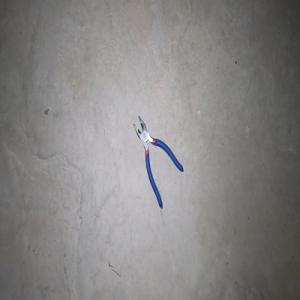Pliers: (133, 114, 183, 208)
